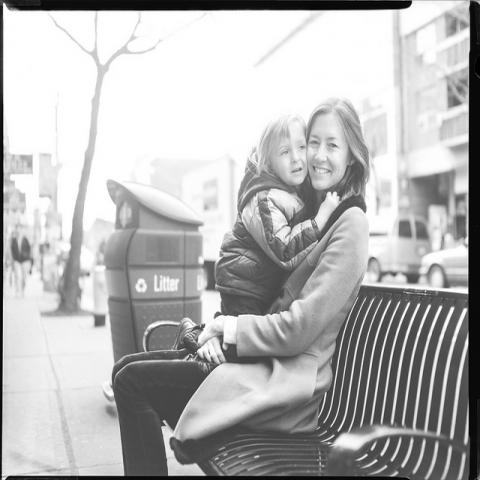car: (366, 213, 430, 284), (410, 240, 469, 290)
